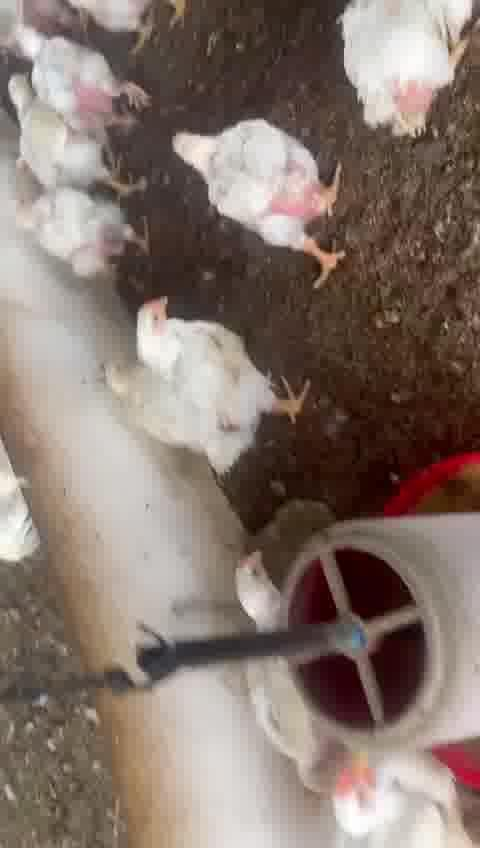AbNormal: (330, 4, 478, 133)
Normal: (167, 120, 353, 280), (135, 294, 299, 420), (14, 35, 152, 137), (14, 197, 152, 284)
